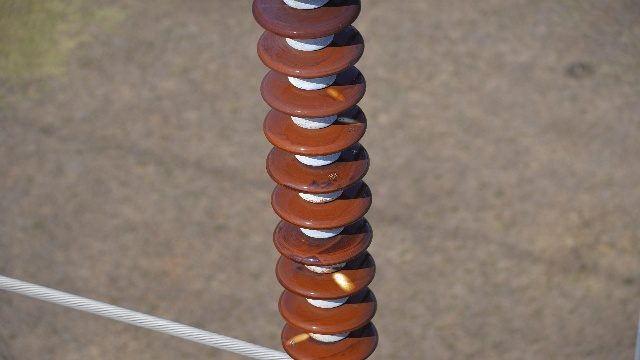insulator_unspecified: (250, 0, 382, 357)
pollution_flashover_local: (330, 269, 356, 295), (286, 329, 311, 347), (326, 85, 345, 104), (339, 114, 362, 126)
